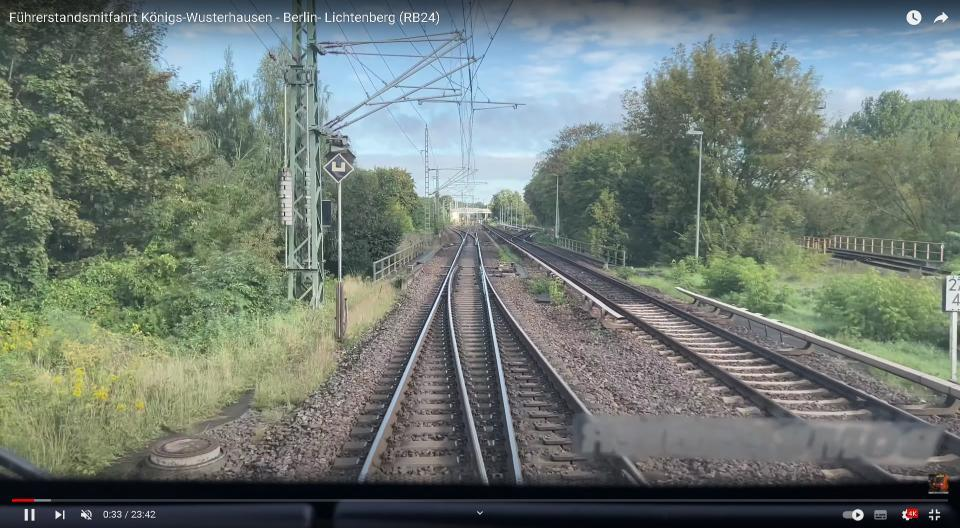Plant: (252, 332, 340, 409), (344, 276, 400, 337), (527, 274, 565, 304)
